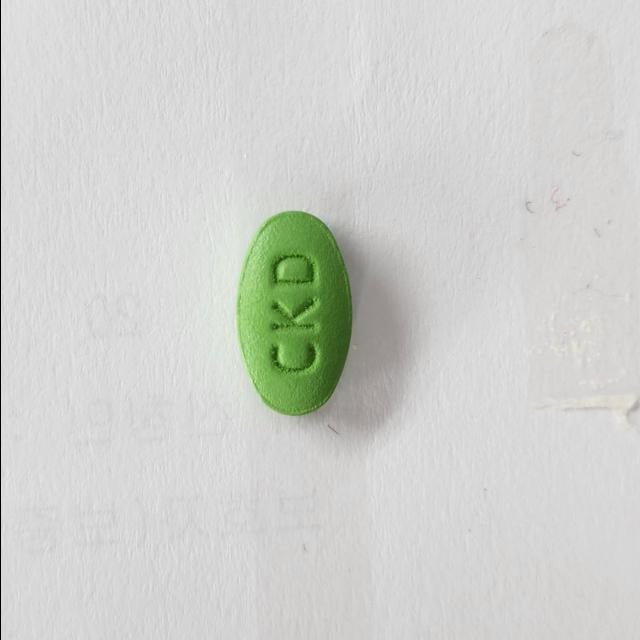pill: (229, 207, 357, 421)
